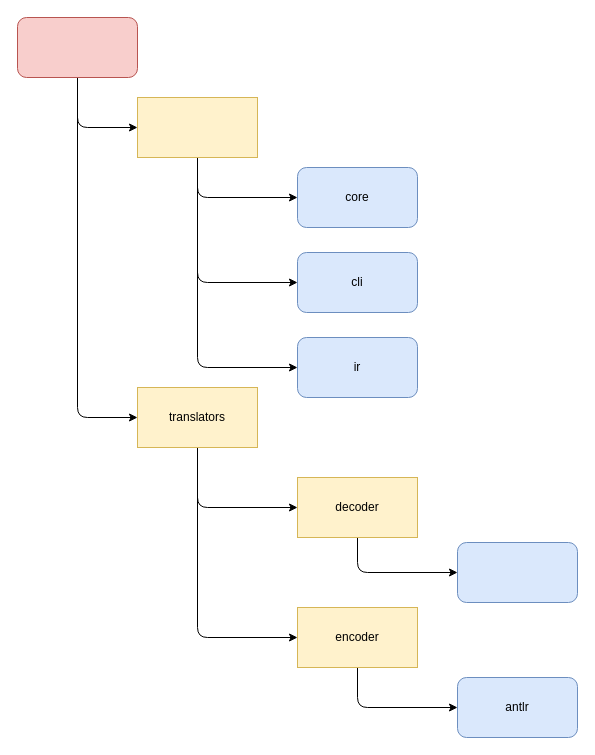
This 595x755 diagram has some shape labels left out. Here are the shapes that lost their labels. From the top down, the centre of each, then its label:
At point 77,47: "Babel".
At point 197,127: "packages".
At point 517,572: "nautilus".
